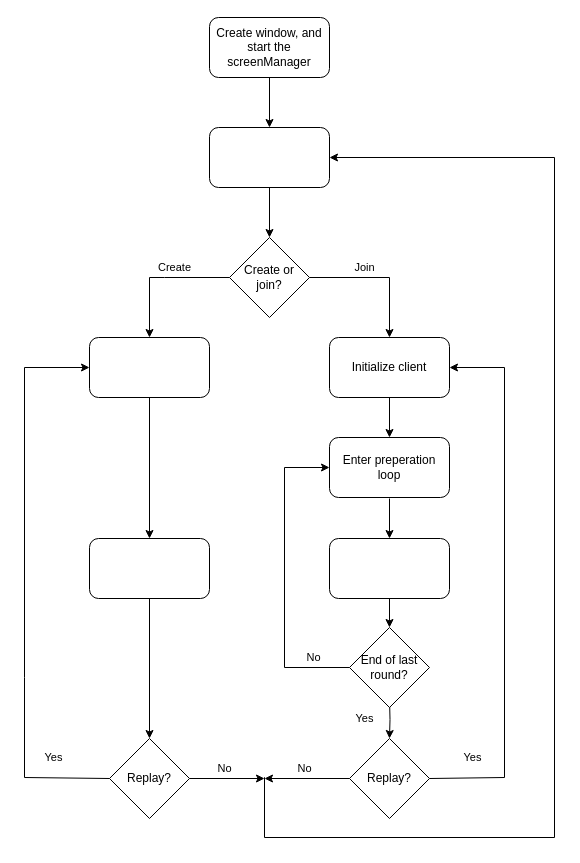
Image size: 580x863. Some labels were removed from this diagram. The shapes that lost their labels are listed below. From the top down, each one's centre as x and y in pixels, then its label:
(269,157): Show main menu, and wait for user to start game
(149,367): Initialize server
(149,568): Enter game loop (only display)
(389,568): Enter round loop
